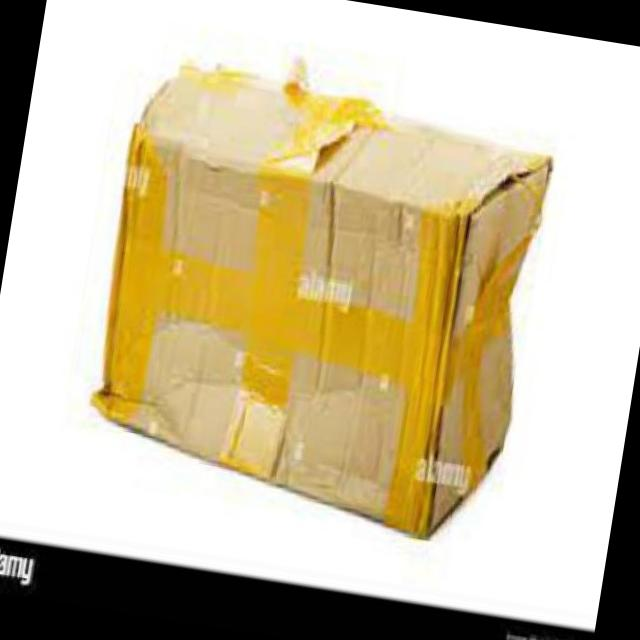box: (67, 155, 604, 478)
